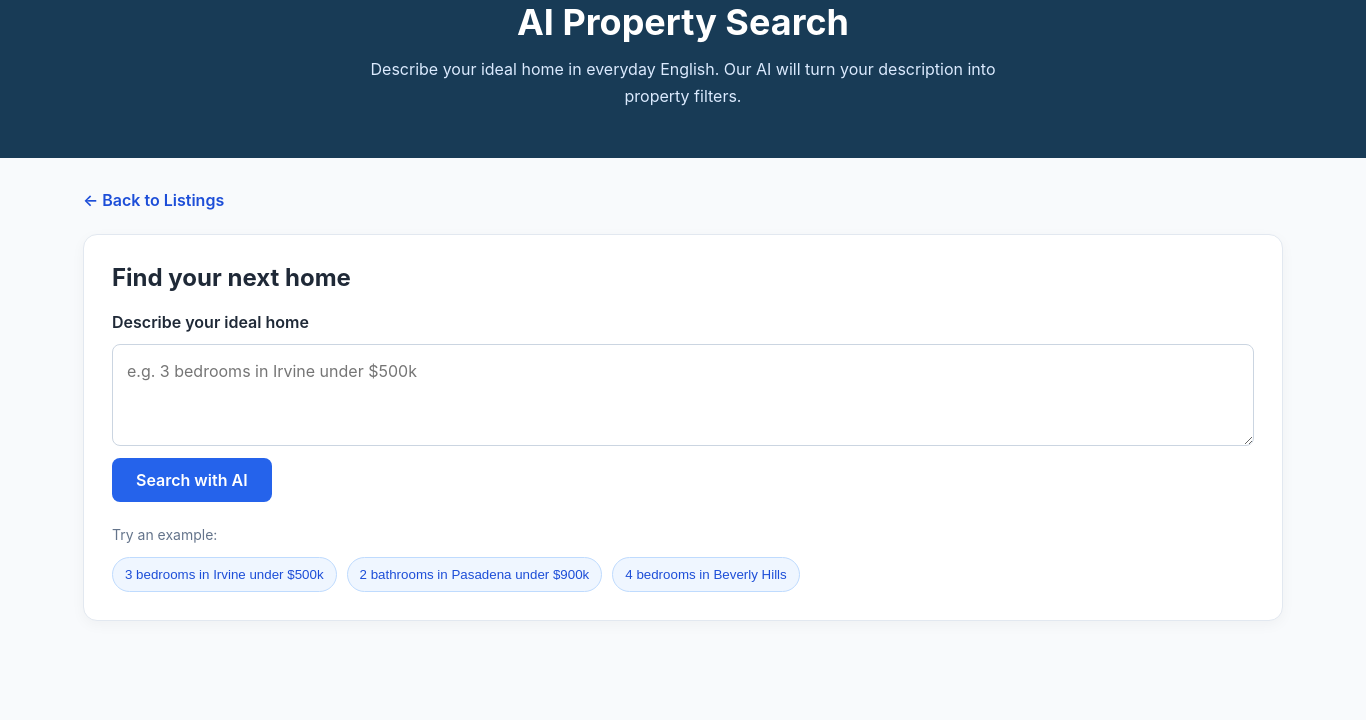
NaturalSearchPage › submits natural language and displays properties
The width and height of the screenshot is (1366, 720).
In the text box labelled "Describe your ideal home": (683, 395) left=112, top=344, right=1254, bottom=446, type "3 bedrooms in Irvine under $500k"
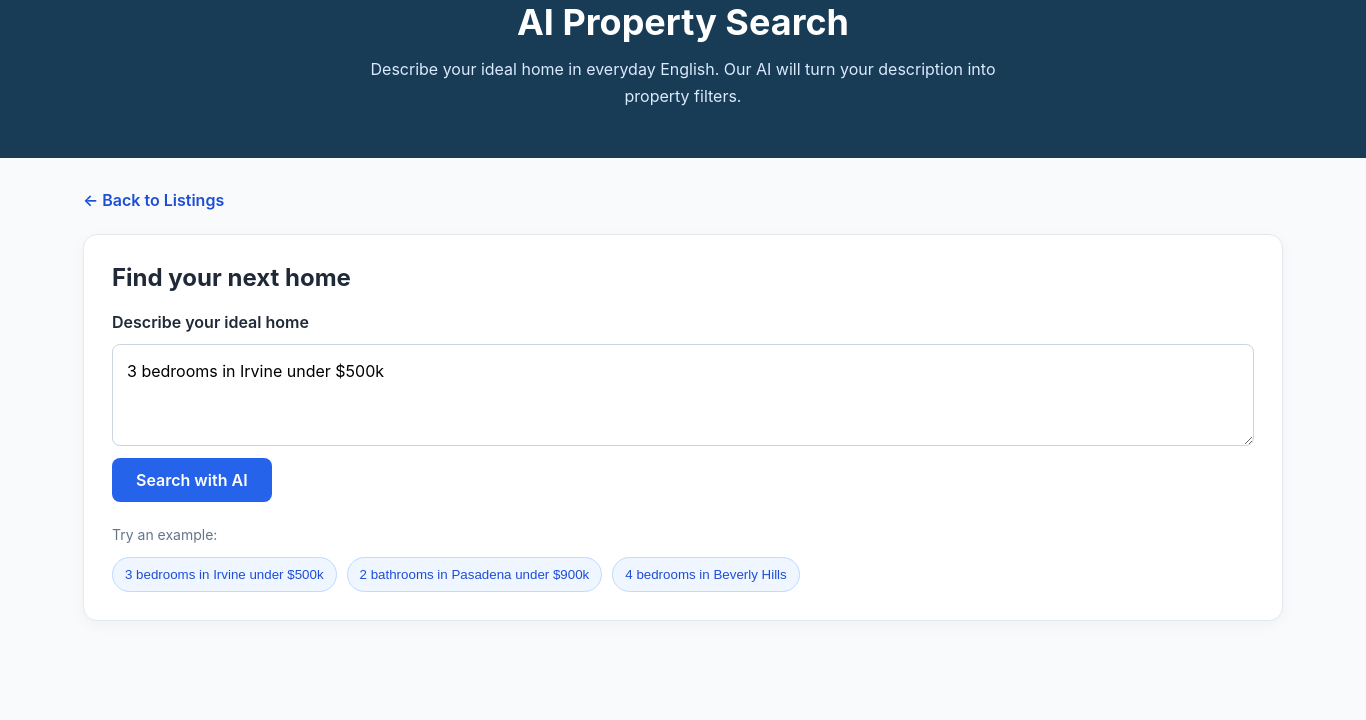
Click the button "Search with AI": (192, 480) left=112, top=458, right=272, bottom=502
(page scrolled)
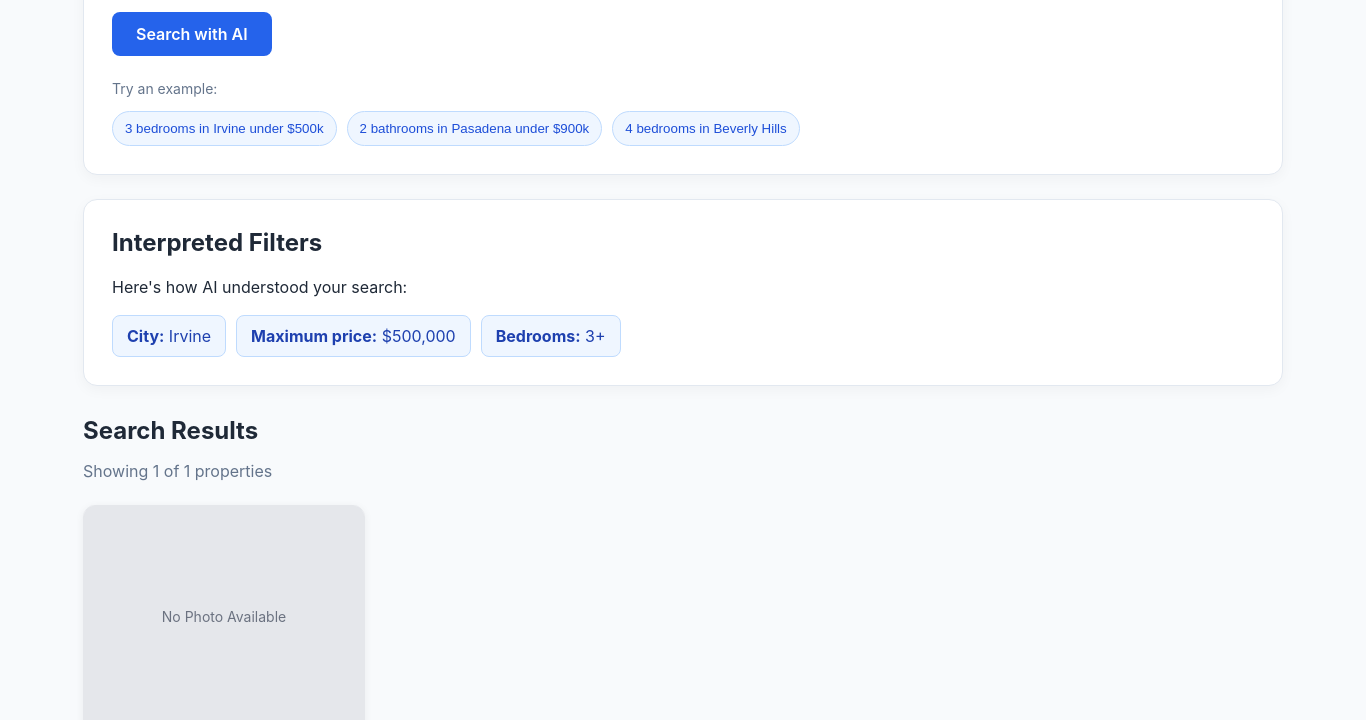
Expected: the text "Showing 1 of 1 properties" is shown, left=83, top=461, right=272, bottom=481
Expected: the text "$500,000" is shown, left=382, top=326, right=456, bottom=346
Expected: the text "3+" is shown, left=585, top=326, right=606, bottom=346
